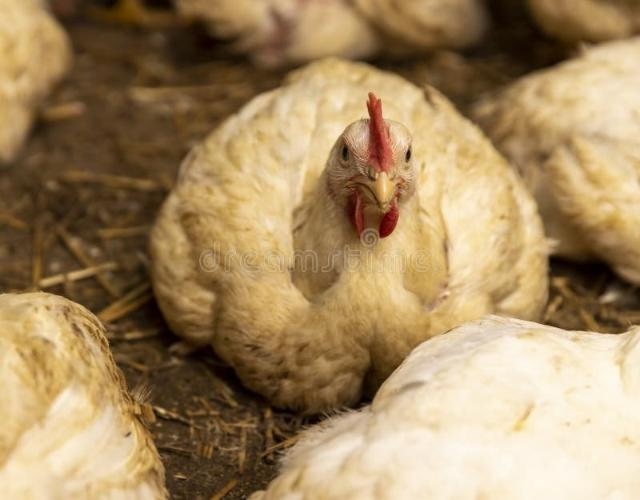Chicken: (146, 55, 551, 417), (240, 315, 640, 500), (472, 37, 640, 282), (0, 288, 171, 500), (174, 4, 492, 65), (0, 2, 78, 165)
